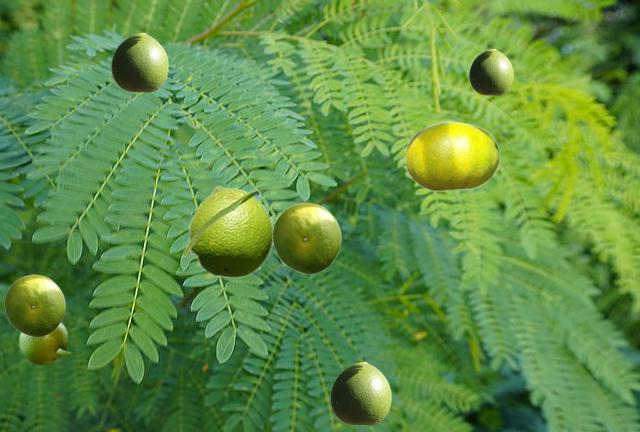dalandan: (181, 185, 273, 278), (404, 120, 499, 191), (272, 202, 340, 273), (4, 274, 64, 336), (330, 362, 390, 424), (111, 33, 167, 91), (18, 322, 71, 364), (469, 49, 512, 94)
